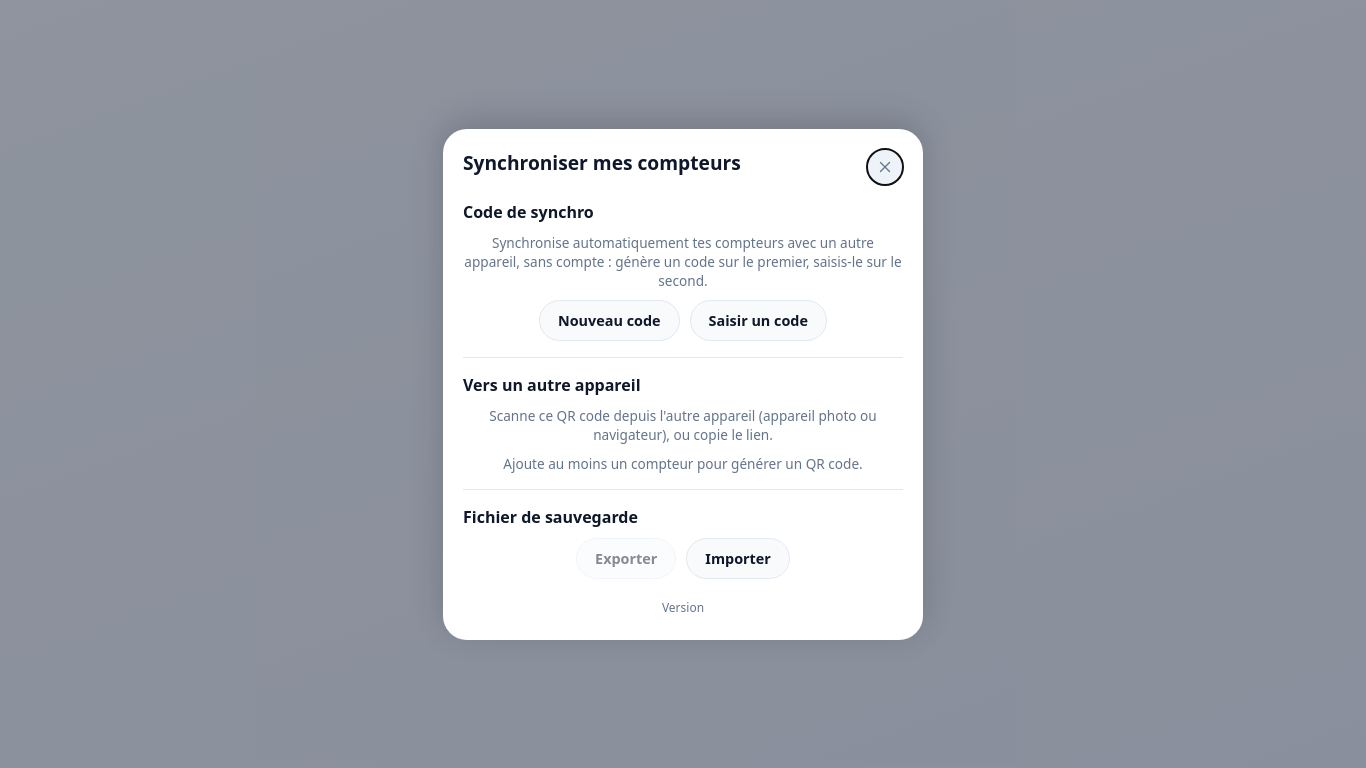
Scenario: SyncPanel › code de synchro › avec un worker configuré (VITE_SYNC_WORKER_URL) › affiche une erreur adaptée pour l'issue "invalid"
Click the button "Saisir un code" at (758, 320), box [690, 300, 827, 340]
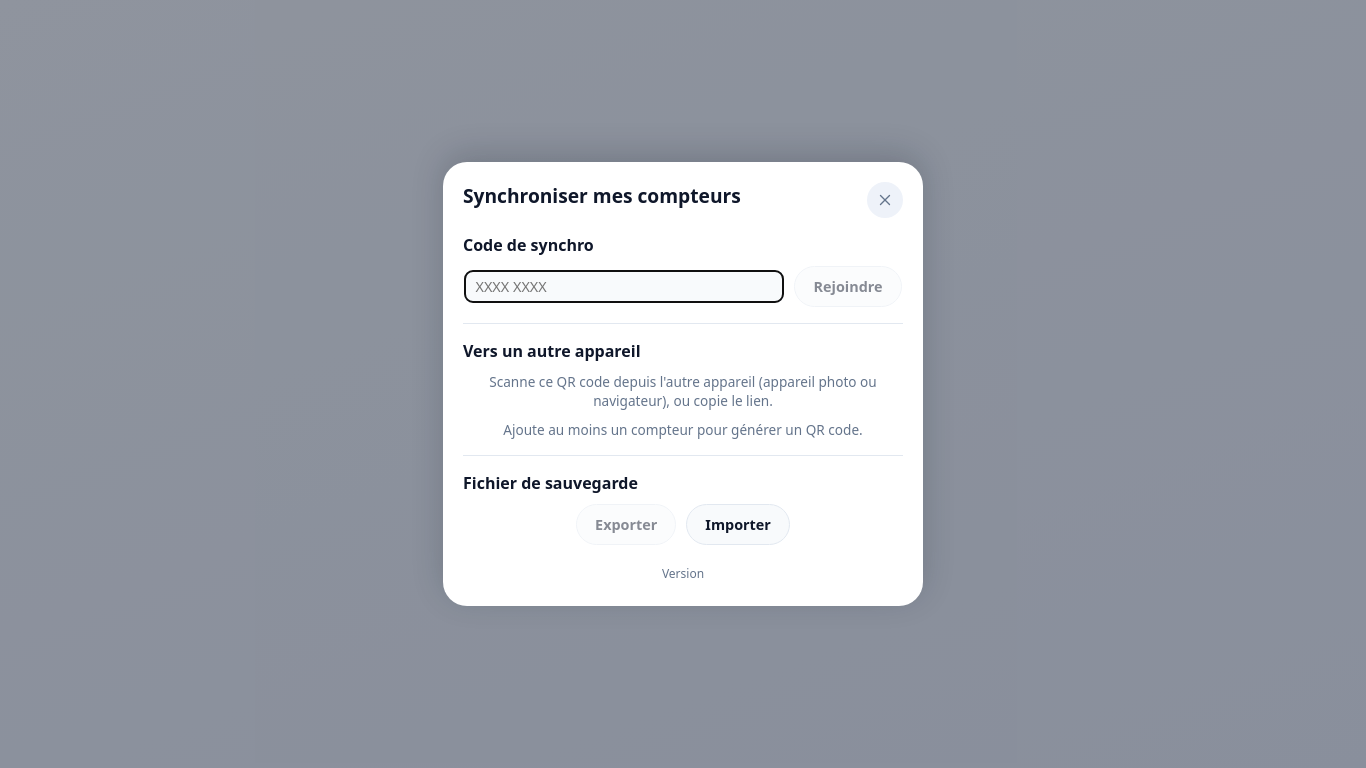
Type "ABCDEFGH" into the field with placeholder "XXXX XXXX" at (624, 286), box [464, 270, 784, 303]
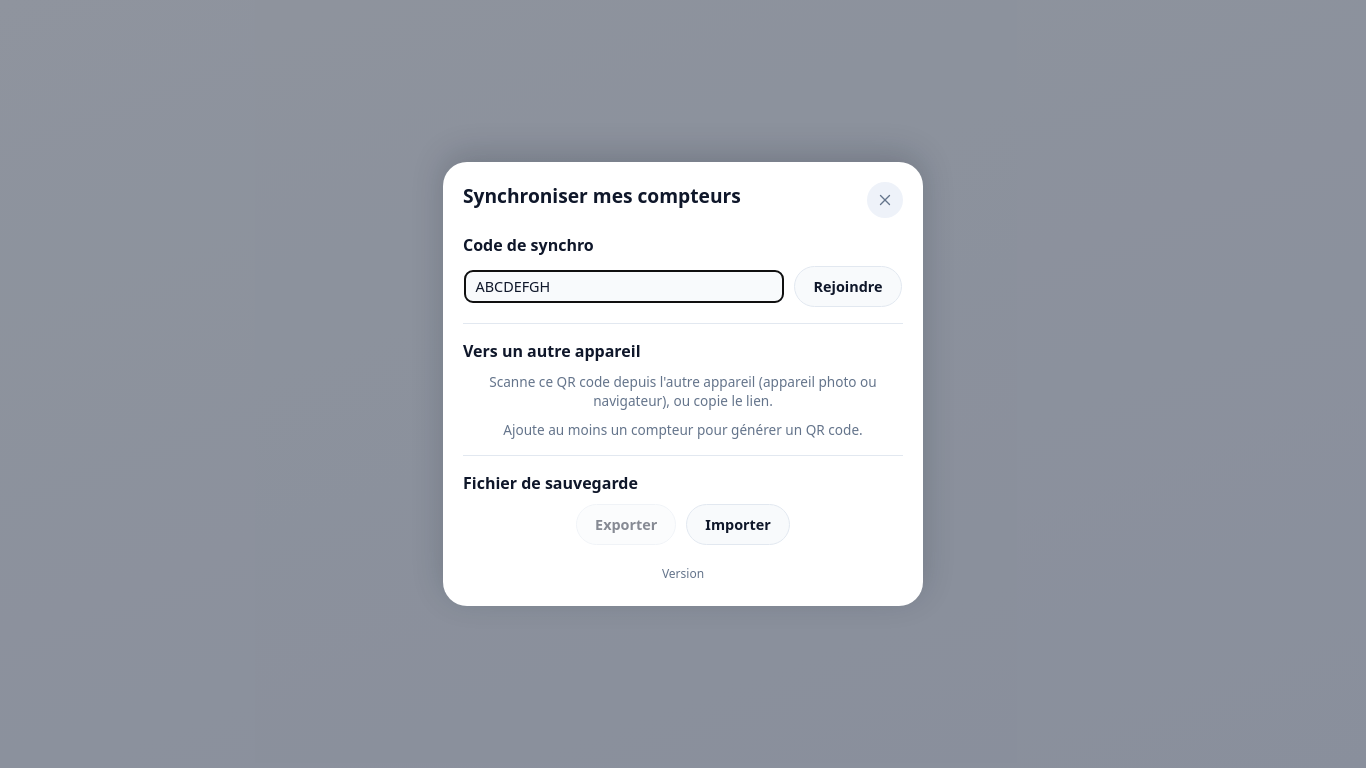
Click the button "Rejoindre" at (848, 286), box [794, 266, 902, 307]
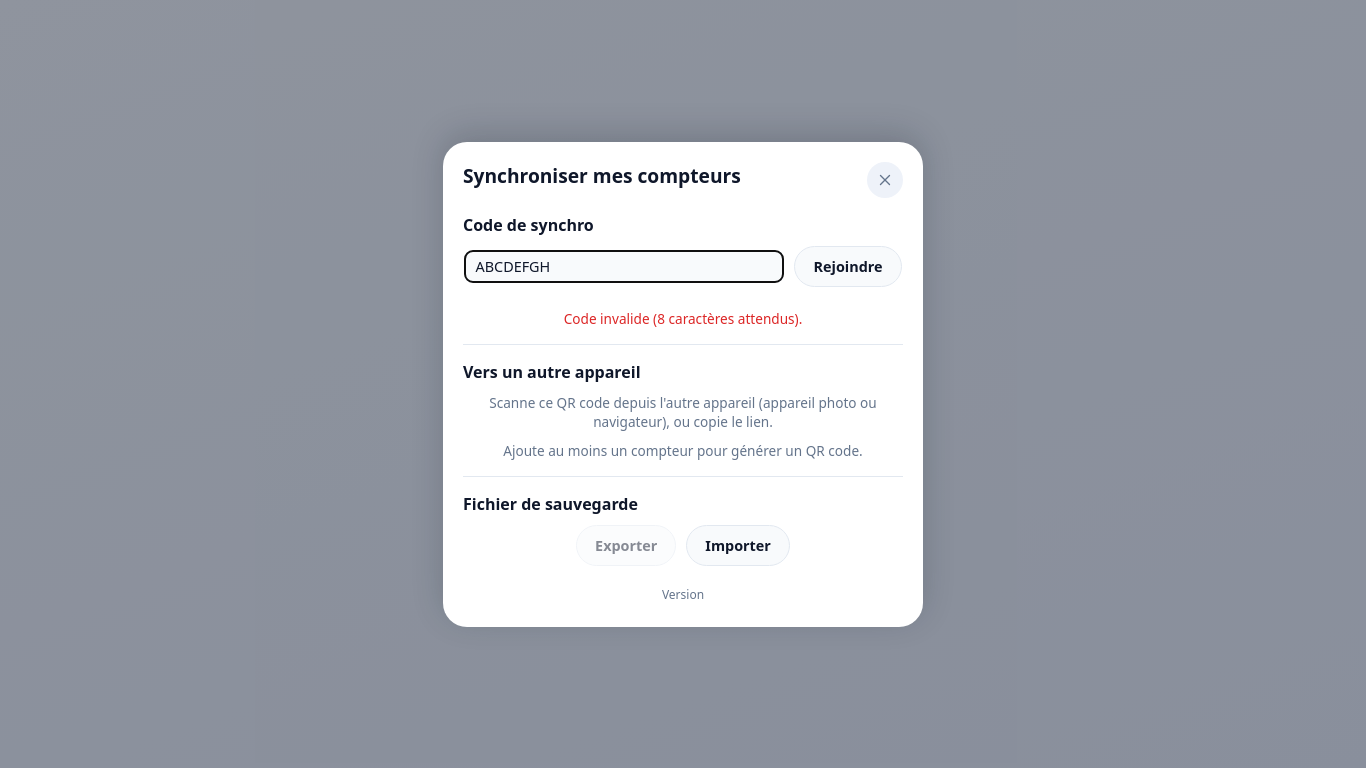
Now the text "Code invalide (8 caractères attendus)." is shown, box [564, 308, 802, 328]
